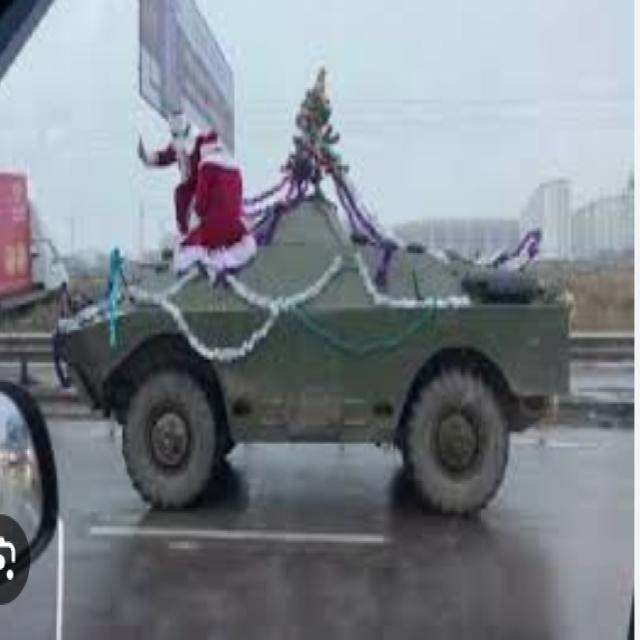MIL_APC: (55, 197, 585, 529)
